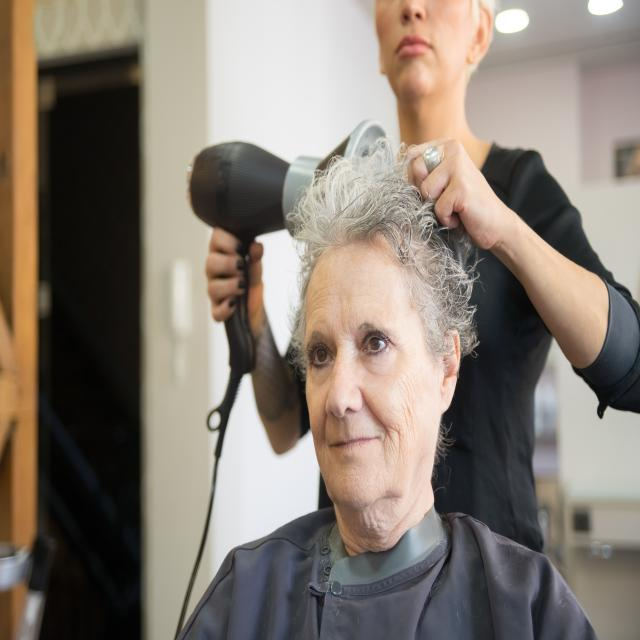dryer: (186, 139, 314, 434)
